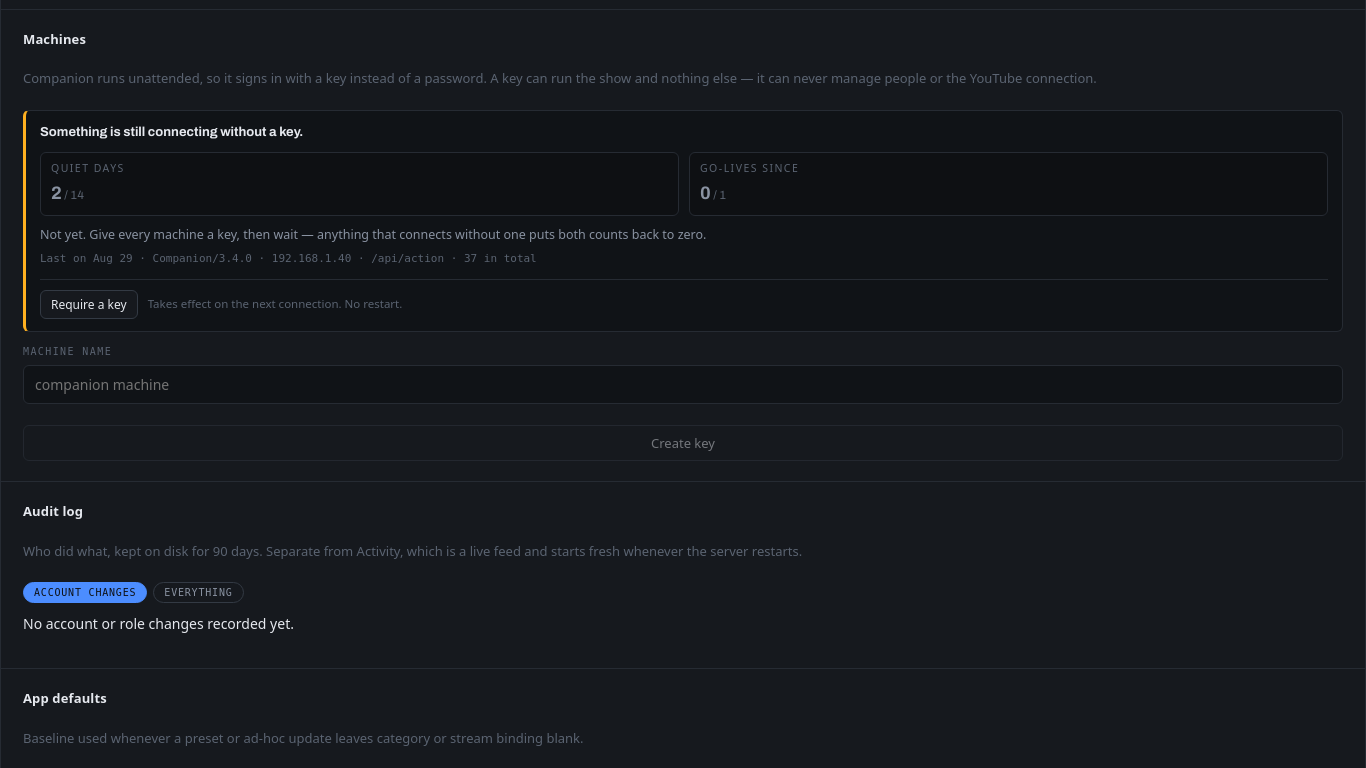
Test: the machines section › shows a minted key once, and says it will not come back
(page scrolled)
In the field labelled "Machine name": (683, 385) [23,365,1343,404], type "booth laptop"
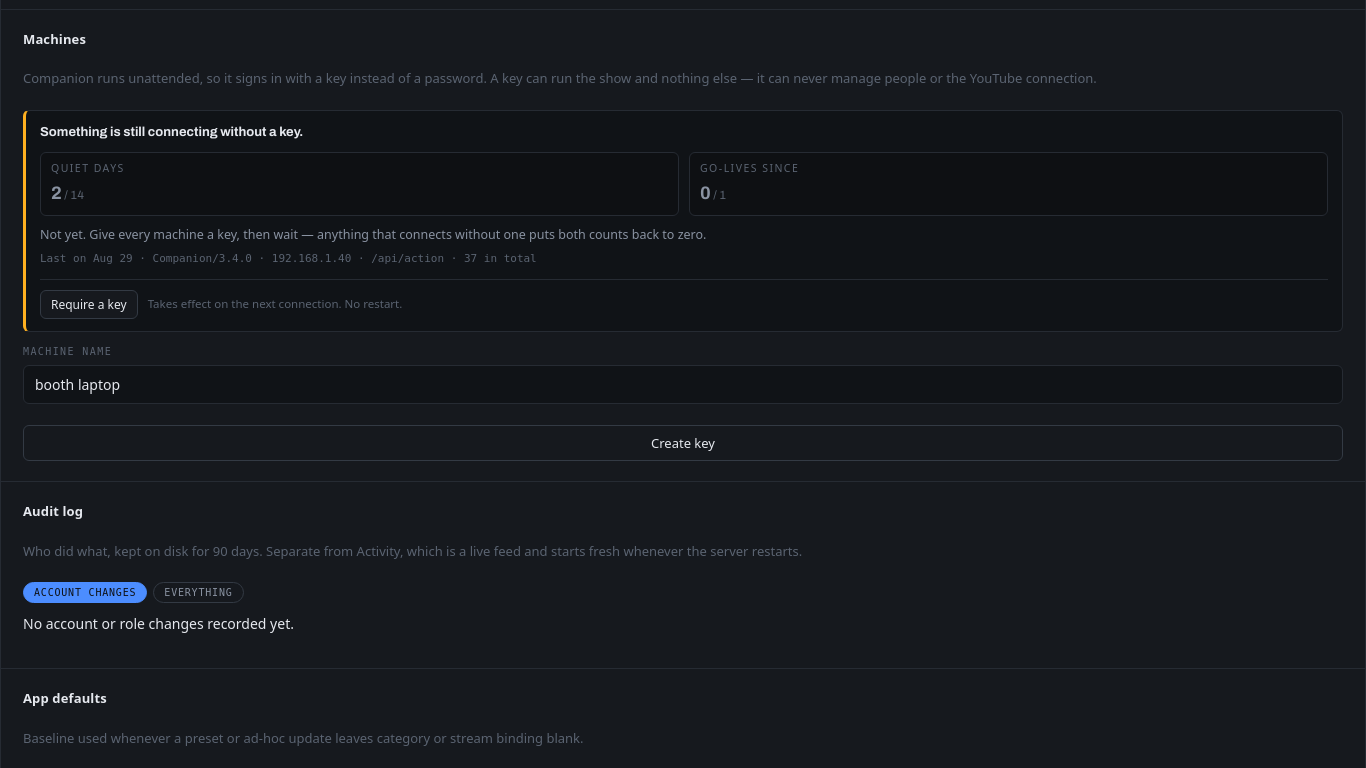
Click the button "Create key": (683, 443) [23,425,1343,461]
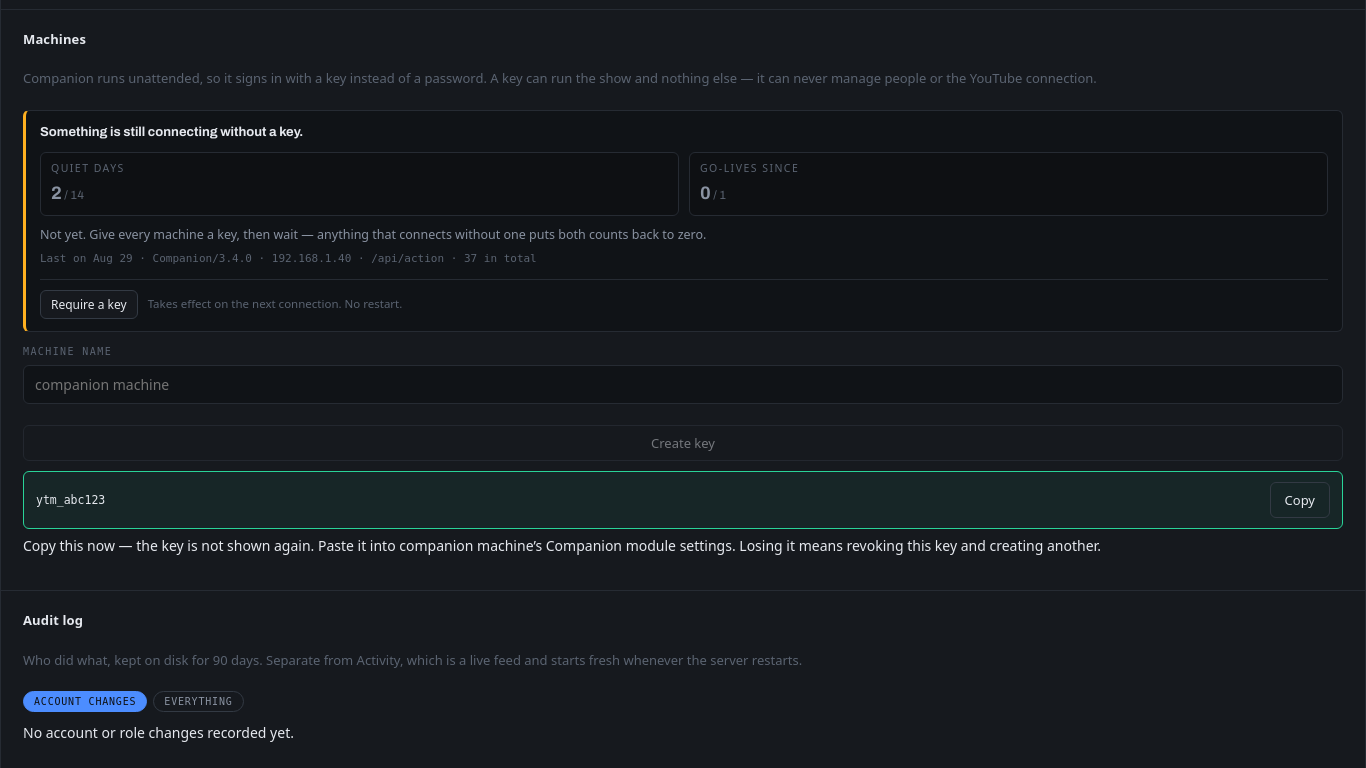
Now the text "ytm_abc123" is shown, box [36,493,105,507]
Now the text "not shown again" is shown, box [23,536,399,555]
